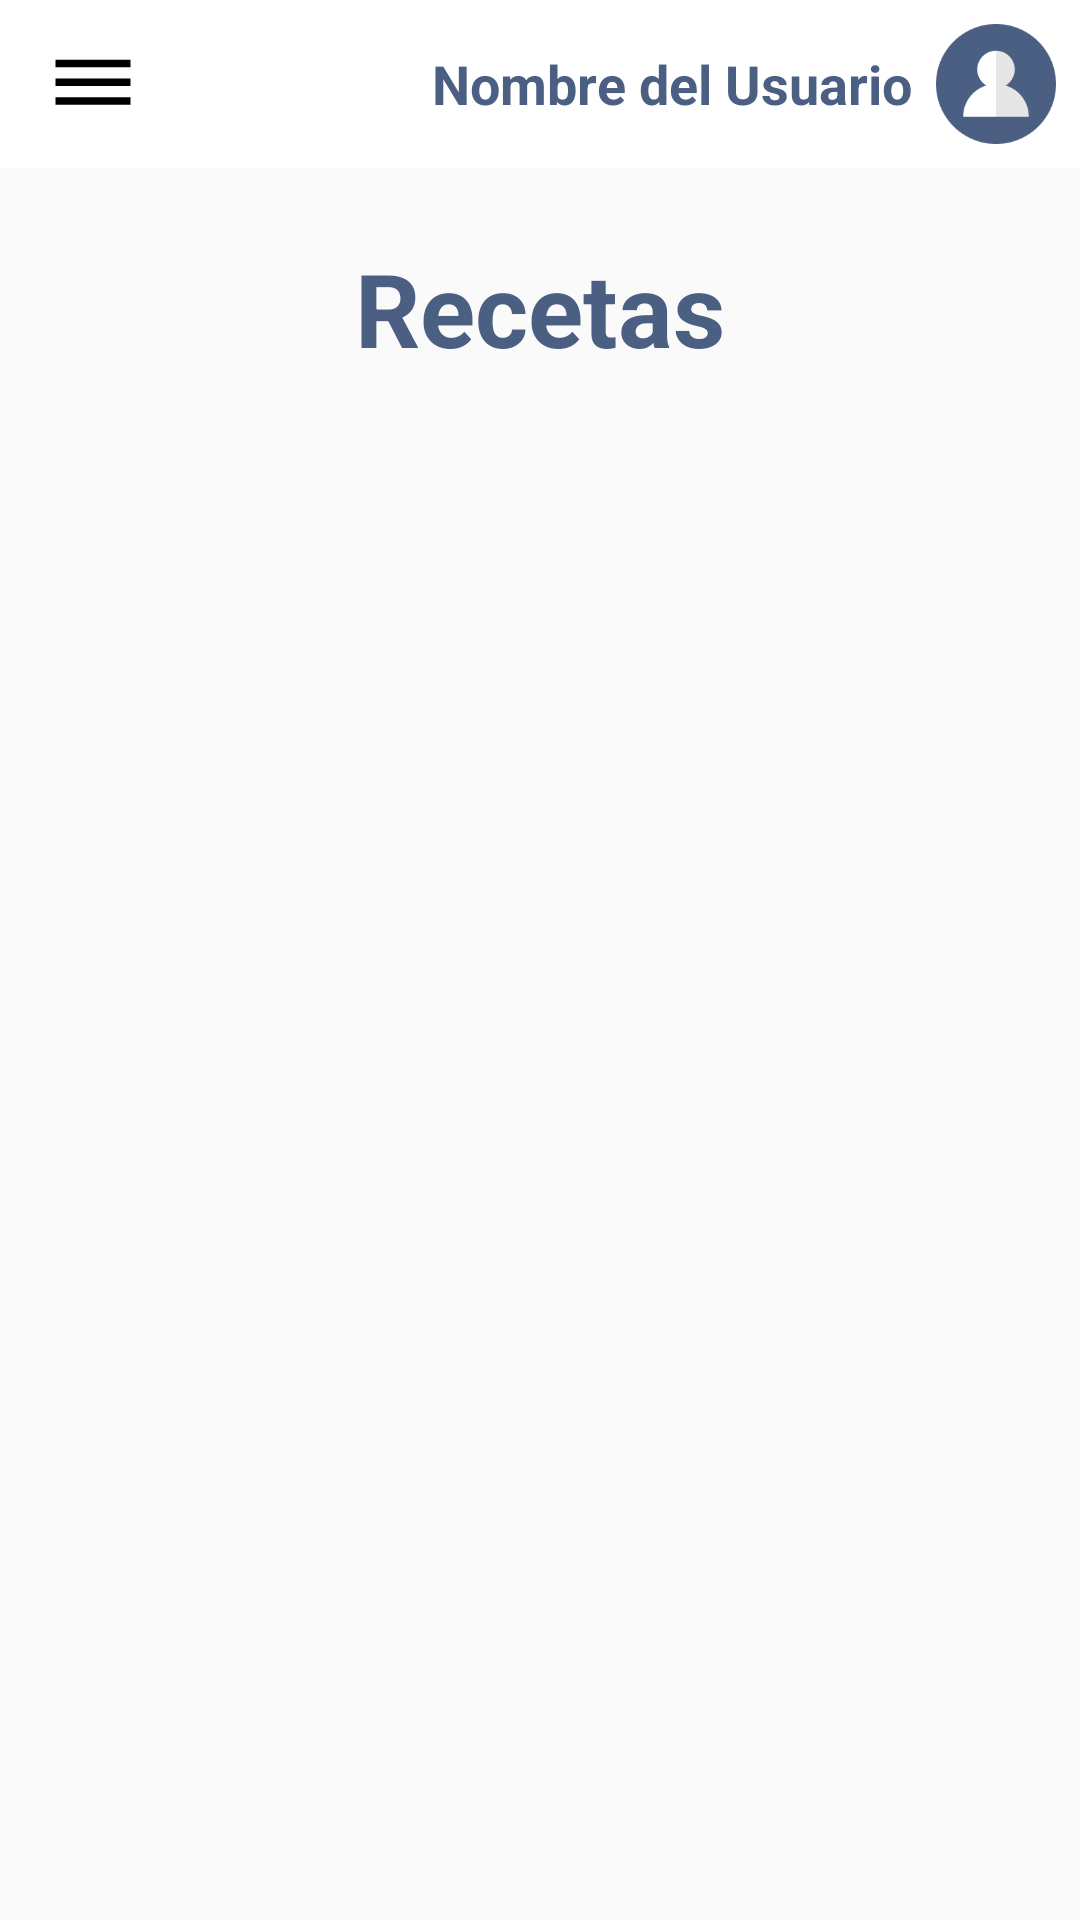

Named icons in this screenshot (1080px×1920px) and their bounding boxes, (x1, y1, x2, y2):
Menu Icon: (55, 59, 131, 105)
Profile Image: (936, 24, 1056, 144)
